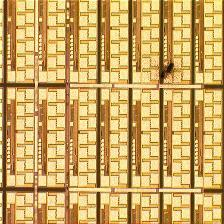PARTICLE: (152, 59, 186, 90)
